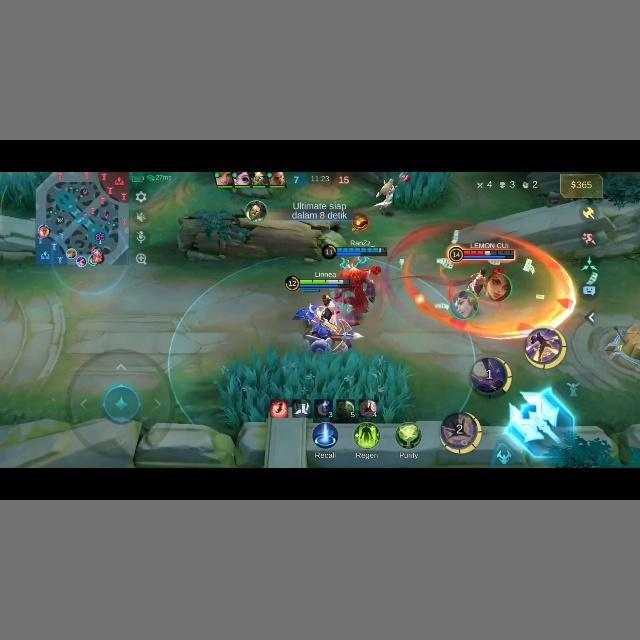hp_enemy: (441, 244, 515, 267)
hp_self: (320, 243, 388, 258), (284, 276, 352, 291)
minion_ally: (301, 306, 360, 356), (335, 329, 362, 353)
